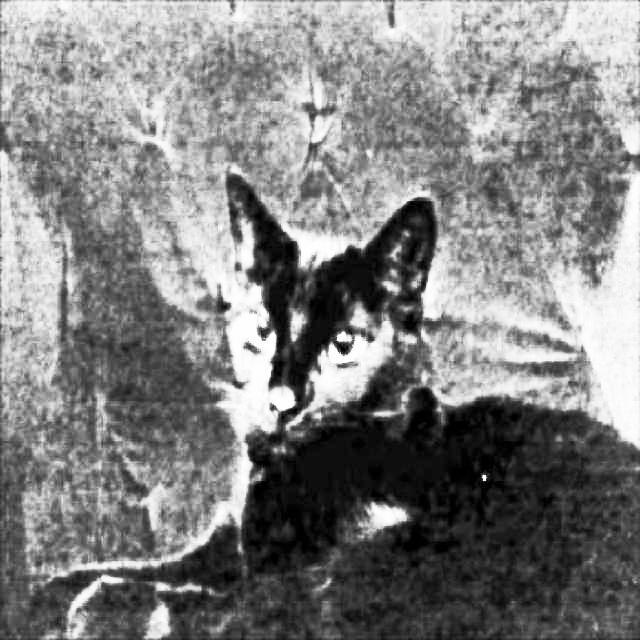Cat: (23, 160, 640, 640)
